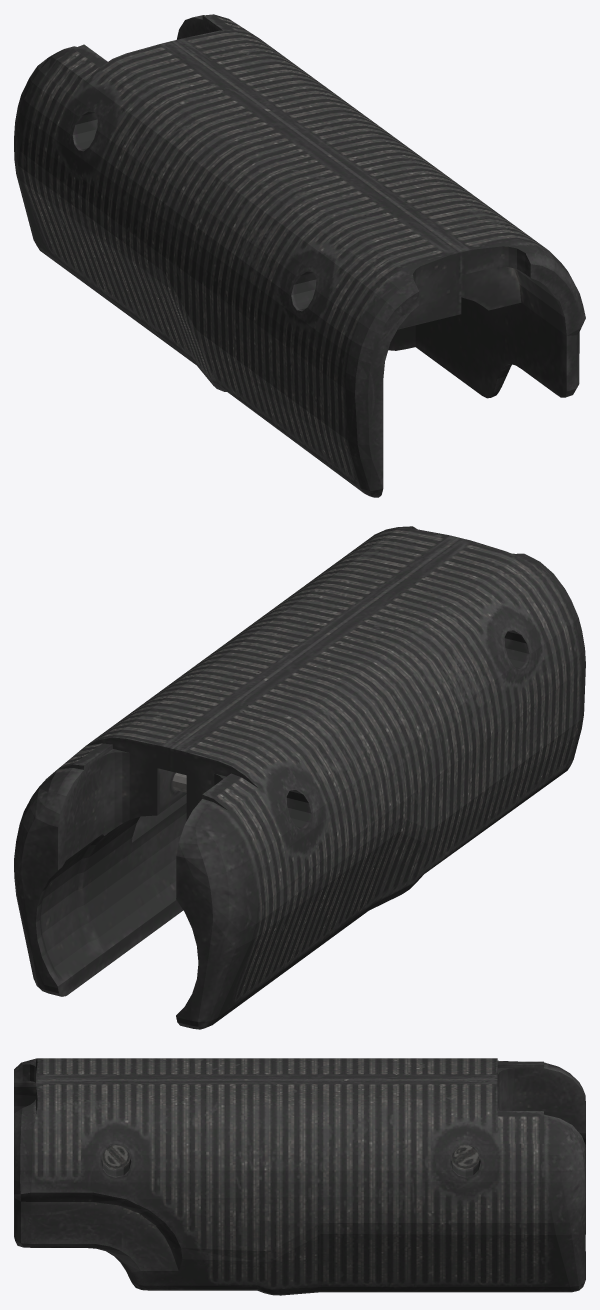
The picture shows the model from 3 angles, top to bottom: view 1: azimuth 30°, elevation 25°; view 2: azimuth 150°, elevation 25°; view 3: azimuth 270°, elevation 25°; orthographic projection. The views are drawn at different scales.
Parts seen in each view (by area): view 1: TW_6698c8c736ba38d29101770b_PZ_Import; view 2: TW_6698c8c736ba38d29101770b_PZ_Import; view 3: TW_6698c8c736ba38d29101770b_PZ_Import.
Boxes of the visible parts, <box> form: TW_6698c8c736ba38d29101770b_PZ_Import: <box>14,14,585,497</box>; TW_6698c8c736ba38d29101770b_PZ_Import: <box>14,526,585,1029</box>; TW_6698c8c736ba38d29101770b_PZ_Import: <box>14,1058,585,1295</box>.
Bounding box in the file's own units: 0.0283 × 0.0731 × 0.0257.
Materials: 1 (1 with a texture image).
